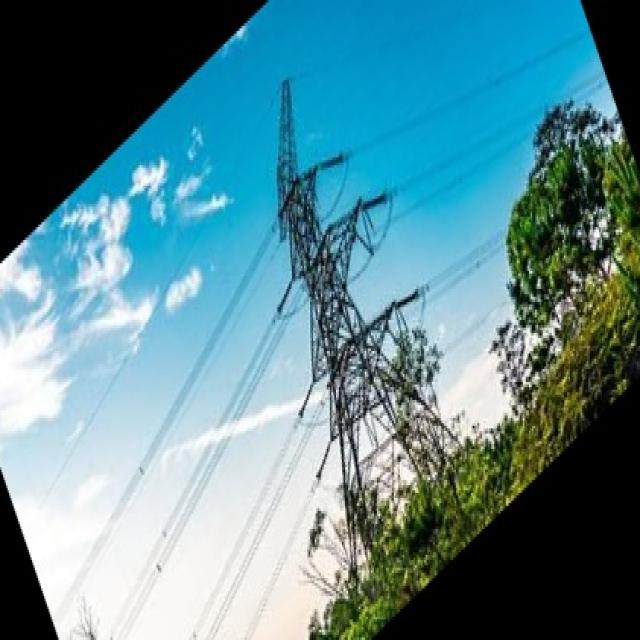utility poles: (268, 323, 472, 556), (478, 83, 608, 384)
